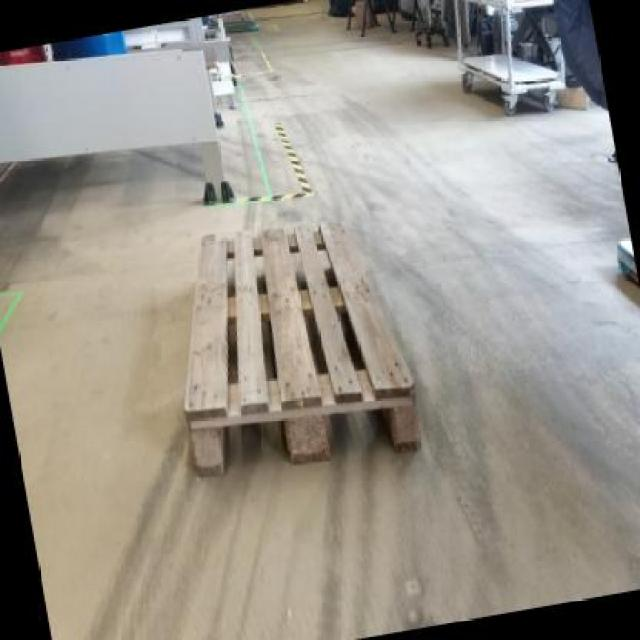block: (279, 403, 332, 466), (380, 390, 432, 452), (180, 412, 226, 476)
front: (171, 389, 436, 472)
